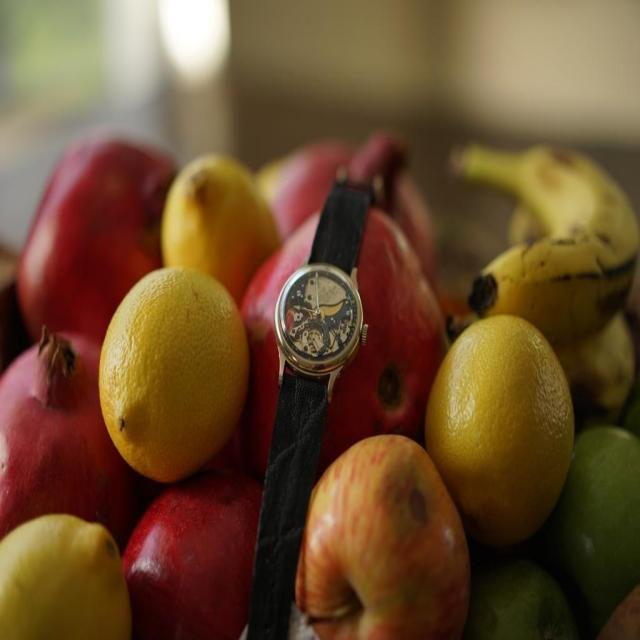apple: (294, 434, 473, 640)
banana: (454, 144, 640, 330)
